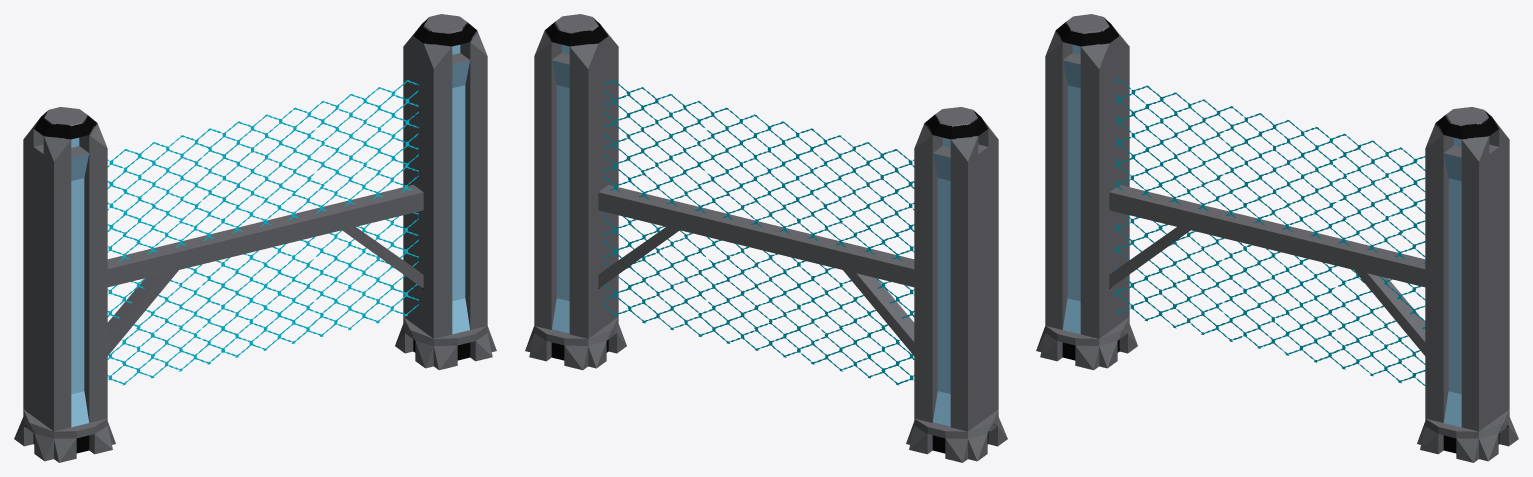
The model's file is fence.fbx.
3 views of the same model, side by side, from view 1: azimuth 30°, elevation 25°; view 2: azimuth 150°, elevation 25°; view 3: azimuth 330°, elevation 25° (orthographic).
Parts seen in each view (by area): view 1: Fence Stick, Fence Stick 2, Fence Plane, Fence Union, Fence Union 2; view 2: Fence Stick, Fence Stick 2, Fence Plane, Fence Union, Fence Union 2; view 3: Fence Stick 2, Fence Stick, Fence Plane, Fence Union 2, Fence Union.
Boxes of the visible parts, <box> form: Fence Stick: <box>14,107,115,462</box>; Fence Stick 2: <box>395,14,496,370</box>; Fence Plane: <box>107,80,418,385</box>; Fence Union: <box>107,224,260,355</box>; Fence Union 2: <box>251,185,423,288</box>; Fence Stick: <box>906,107,1007,462</box>; Fence Stick 2: <box>525,14,626,370</box>; Fence Plane: <box>603,80,914,385</box>; Fence Union: <box>761,224,914,355</box>; Fence Union 2: <box>598,185,770,288</box>; Fence Stick 2: <box>1417,107,1518,462</box>; Fence Stick: <box>1036,14,1137,370</box>; Fence Plane: <box>1114,78,1425,385</box>; Fence Union 2: <box>1272,224,1425,355</box>; Fence Union: <box>1109,185,1281,288</box>.
Size of the model in its own units: 3.34 by 2.29 by 0.525.
